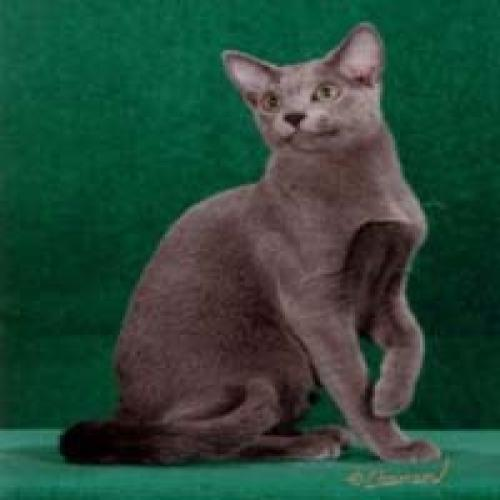rblue: (214, 21, 400, 169)
